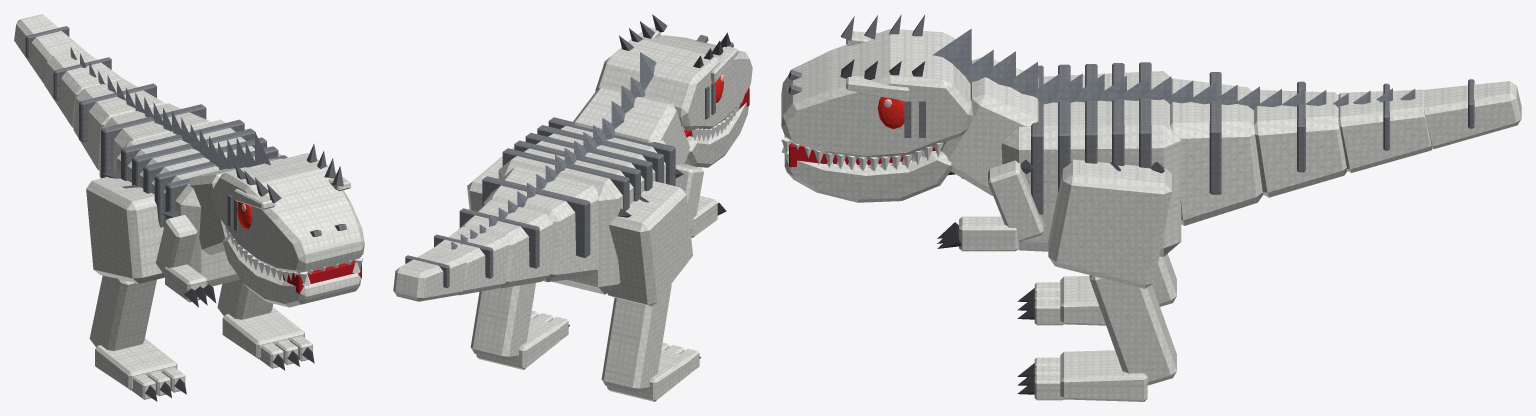
File: 20_Indominus_Rex.glb
The picture shows the model from 3 angles, left to right: view 1: azimuth 30°, elevation 25°; view 2: azimuth 150°, elevation 25°; view 3: azimuth 270°, elevation 25°; orthographic projection. The views are drawn at different scales.
Parts seen in each view (by area): view 1: 20_Indominus_Rex; view 2: 20_Indominus_Rex; view 3: 20_Indominus_Rex.
Boxes of the visible parts, box(x1,y1,x2,y2) form: 20_Indominus_Rex: box(14, 14, 364, 401); 20_Indominus_Rex: box(393, 14, 752, 401); 20_Indominus_Rex: box(781, 14, 1521, 401).
Size of the model in its own units: 6.82 by 9.81 by 20.38.
1 material, 1 textured.
